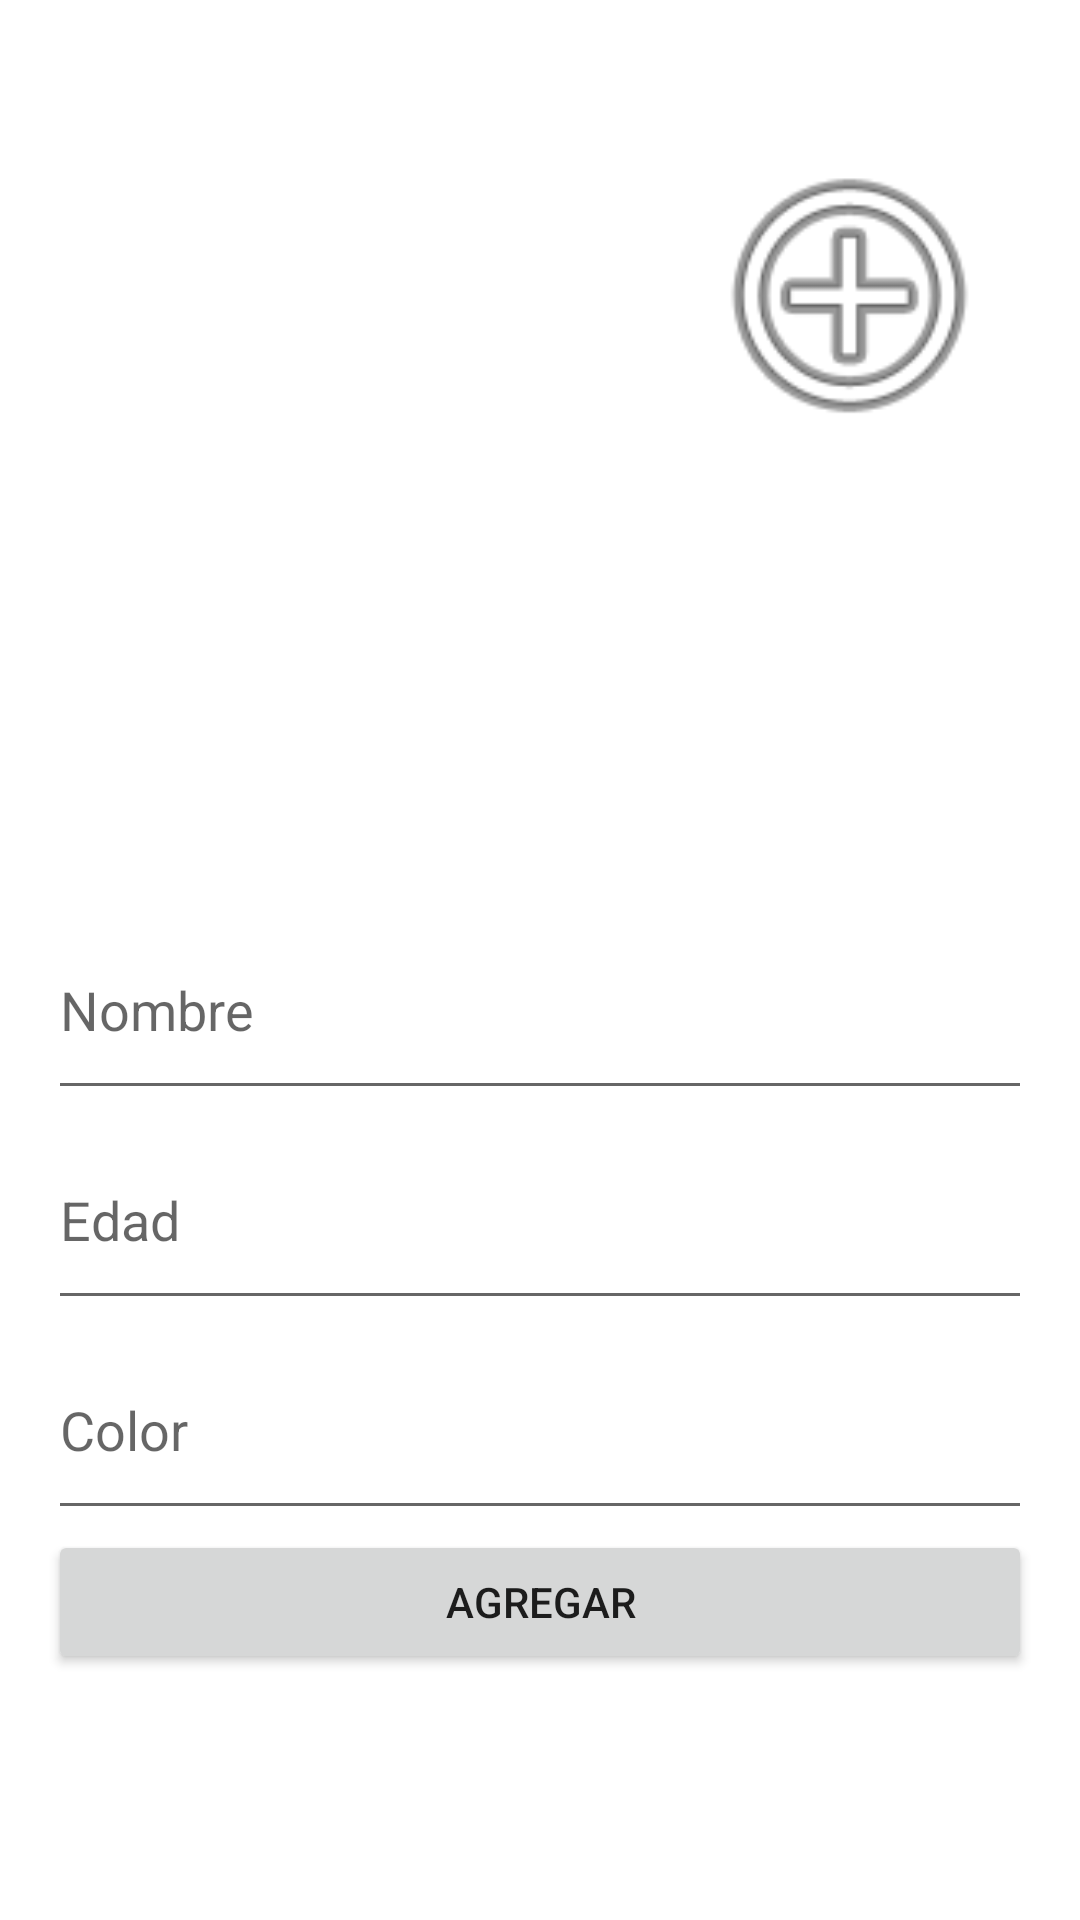

Where icons sit on this 1080px x 1920px app screen, as region(x1, y1, x2, y2):
add: region(732, 178, 967, 413)
